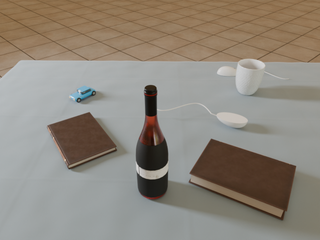book: (189, 139, 296, 220), (47, 112, 117, 169)
bottle: (136, 85, 168, 199)
cup: (236, 59, 265, 95)
mouse: (217, 113, 248, 128), (217, 66, 236, 76)
toy_car: (69, 86, 96, 102)
